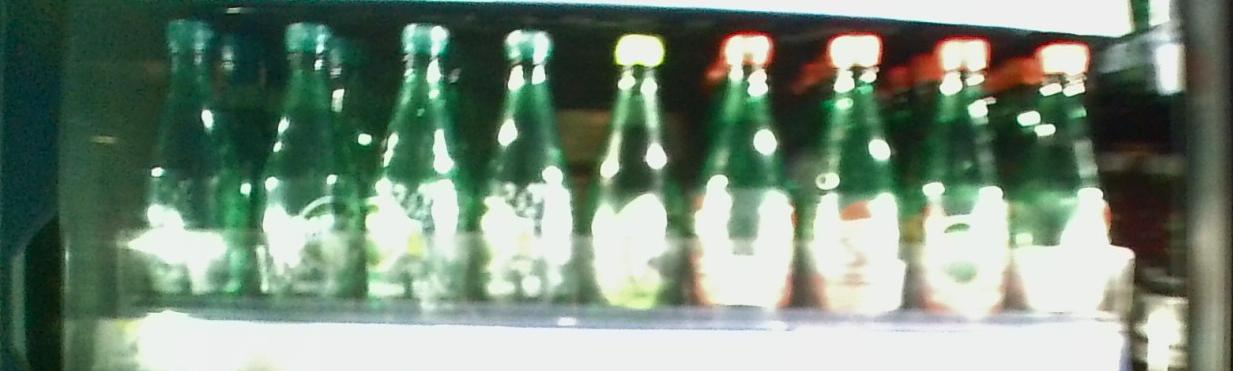bottle: (691, 27, 800, 314), (481, 24, 583, 304), (809, 30, 909, 314), (370, 17, 466, 311), (1015, 37, 1113, 314), (258, 22, 354, 295), (150, 19, 243, 296), (918, 34, 1009, 309), (591, 26, 674, 315)
